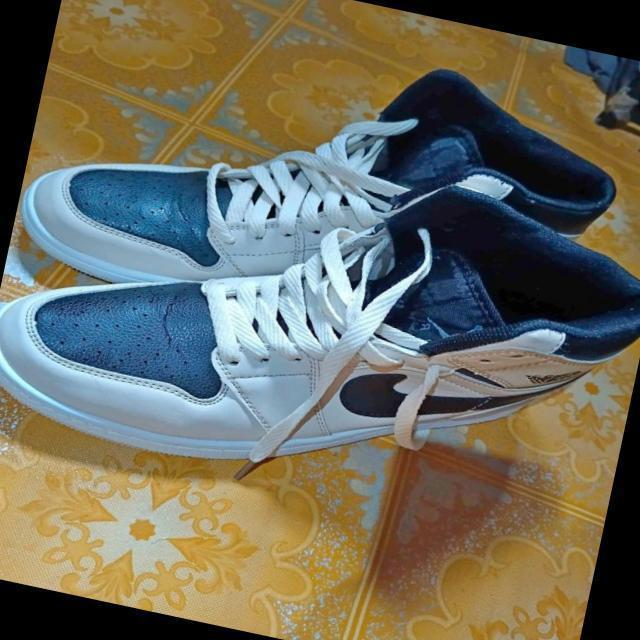nike fake jordan 1: (0, 92, 640, 555), (5, 0, 635, 382)
